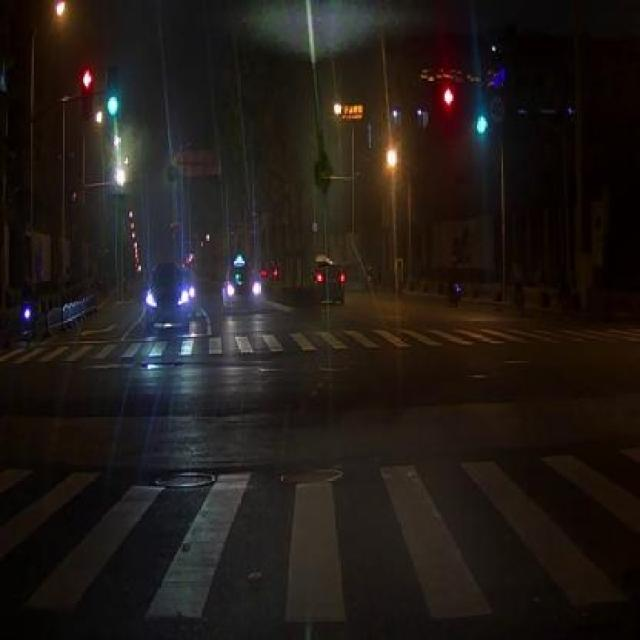forb_speed_over_40: (487, 89, 505, 129)
